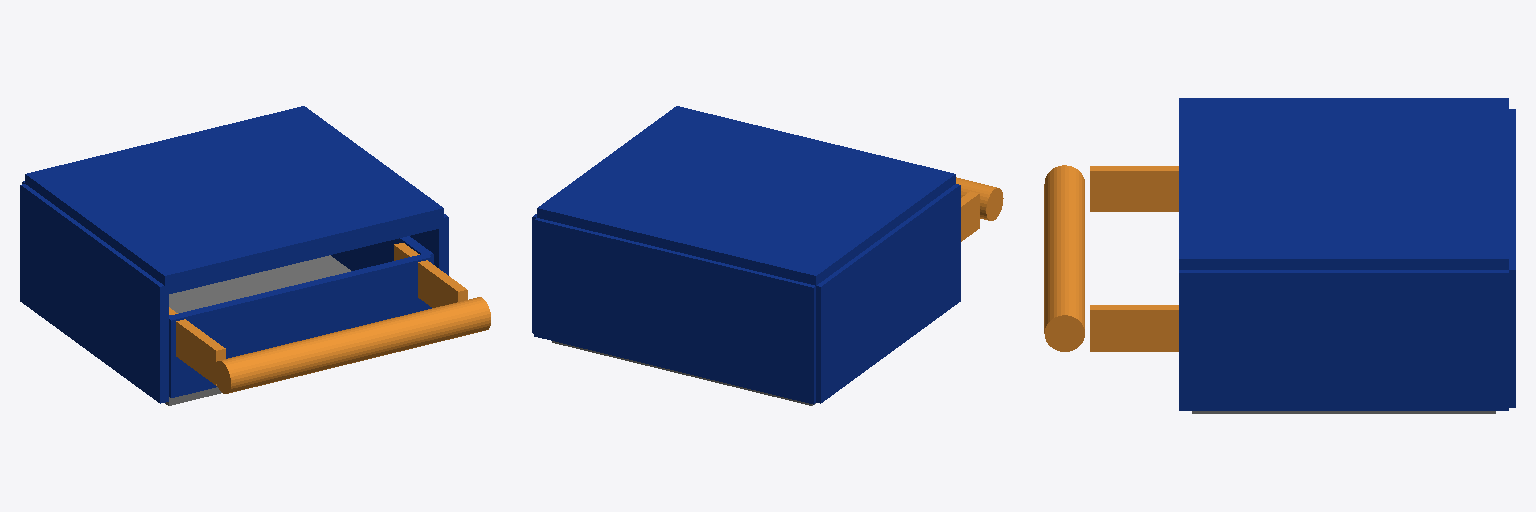
The robot description file, URDF, robot "bowl.urdf":
<?xml version="0.0" ?>
<robot name="bowl.urdf">
  <material name="mainColor">
    <color rgba=".1 .25 .6 1."/>
  </material>
<!--   <material name="mainColor">
    <color rgba=".55 .27 .1 1."/>
  </material> -->
<!--   <material name="mainColor">
    <color rgba="1. 1. 1. 1."/>
  </material> -->
  <material name="orange">
    <color rgba=".93 .6 .23 1"/>
  </material>
  <material name="grey">
    <color rgba=".5 .5 .5 1."/>
  </material>

  <link name="world"/>

  <link name="base">
    <contact>
      <rolling_friction value="10.0"/>
      <lateral_friction value="10.0"/>
      <spinning_friction value="10.0"/>
    </contact>
    <inertial>
      <origin rpy="0 0 0" xyz="0.0 0.0 0.0"/>
       <mass value="0.1"/>
       <inertia ixx="1" ixy="0" ixz="0" iyy="1" iyz="0" izz="1"/>
    </inertial>
    <!-- bottom -->
    <visual>
      <origin rpy="0 0 0" xyz="0 0 -0.2"/>
      <geometry>
        <box size="1.4 1.2 .1"/>
      </geometry>
      <material name="grey"/>
    </visual>
    <visual>
      <!-- right -->
      <origin rpy="0 0 0" xyz="0 -.6 0"/>
      <geometry>
        <box size="1.4 .05 0.4"/>
      </geometry>
      <material name="mainColor"/>
    </visual>
    <visual>
      <!-- left -->
      <origin rpy="0 0 0" xyz="0 .6 0"/>
      <geometry>
        <box size="1.4 .05 0.4"/>
      </geometry>
      <material name="mainColor"/>
    </visual>
    <visual>
      <!-- front -->
      <origin rpy="0 0 0" xyz=".7 0 0"/>
      <geometry>
        <box size=".05 1.2 0.4"/>
      </geometry>
      <material name="mainColor"/>
    </visual>
    <visual>
      <!-- back -->
      <origin rpy="0 0 0" xyz="-.7 0 0"/>
      <geometry>
        <box size=".05 1.2 0.4"/>
      </geometry>
      <material name="mainColor"/>
    </visual>

    <collision>
      <!--Bottom --> 
      <origin rpy="0 0 0" xyz="0 0 -.2"/>
      <geometry>
        <box size="1.4 1.2 .1"/>
      </geometry>
    </collision>
    <collision>
      <!-- right -->
      <origin rpy="0 0 0" xyz="0 -.6 0"/>
      <geometry>
        <box size="1.4 .05 0.4"/>
      </geometry>
    </collision>
    <collision>
      <!-- left -->
      <origin rpy="0 0 0" xyz="0 .6 0"/>
      <geometry>
        <box size="1.4 .05 0.4"/>
      </geometry>
    </collision>
    <collision>
      <!-- front -->
      <origin rpy="0 0 0" xyz=".7 0 0"/>
      <geometry>
        <box size=".05 1.2 0.4"/>
      </geometry>
    </collision>
    <collision>
      <!-- back -->
      <origin rpy="0 0 0" xyz="-.7 0 0"/>
      <geometry>
        <box size=".05 1.2 0.4"/>
      </geometry>
    </collision>
  </link>

  <link name="handle_r">
    <contact>
      <rolling_friction value="1000.0"/>
      <lateral_friction value="1000.0"/>
      <!-- lateral_friction was key to not making the gripper slide on the handle--> 
      <spinning_friction value="1000.0"/>
      <contact_cfm value="0.0"/>
      <contact_erp value="1.0"/>
    </contact>
    <inertial>
      <origin rpy="0 1.57 0" xyz="0 0 0"/>
      <mass value=".1"/>
      <inertia ixx="1" ixy="0" ixz="0" iyy="1" iyz="0" izz="1"/>
    </inertial>
    <visual>
      <origin rpy="0 1.57 0" xyz="0 0 0"/>
      <geometry>
        <cylinder radius="0.08" length="1.4"/>
      </geometry>
      <material name="orange"/>
    </visual>
    <collision>
      <origin rpy="0 1.57 0" xyz="0 0 0"/>
      <geometry>
        <cylinder radius="0.08" length="1.4"/>
      </geometry>
    </collision>
  </link>

  <link name="handle_plate_far">
    <contact>
      <rolling_friction value="1000.0"/>
      <lateral_friction value="1000.0"/>
      <spinning_friction value="1000.0"/>
      <contact_cfm value="0.0"/>
      <contact_erp value="1.0"/>
    </contact>
    <inertial>
      <origin rpy="0 1.57 0" xyz="0 0 0"/>
      <mass value=".1"/>
      <inertia ixx="1" ixy="0" ixz="0" iyy="1" iyz="0" izz="1"/>
    </inertial>
    <visual>
      <origin rpy="0 0 0" xyz="0 0 0"/>
      <geometry>
        <box size=".05 .6 .18"/>
      </geometry>
      <material name="orange"/>
    </visual>
    <collision>
      <origin rpy="0 0 0" xyz="0 0 0"/>
      <geometry>
        <box size=".05 .6 .18"/>
      </geometry>
    </collision>
  </link>

  <link name="handle_plate_near">
    <contact>
      <rolling_friction value="1000.0"/>
      <lateral_friction value="1000.0"/>
      <spinning_friction value="1000.0"/>
      <contact_cfm value="0.0"/>
      <contact_erp value="1.0"/>
    </contact>
    <inertial>
      <origin rpy="0 1.57 0" xyz="0 0 0"/>
      <mass value=".1"/>
      <inertia ixx="1" ixy="0" ixz="0" iyy="1" iyz="0" izz="1"/>
    </inertial>
    <visual>
      <origin rpy="0 0 0" xyz="0 0 0"/>
      <geometry>
        <box size=".05 .6 .18"/>
      </geometry>
      <material name="orange"/>
    </visual>
    <collision>
      <origin rpy="0 0 0" xyz="0 0 0"/>
      <geometry>
        <box size=".05 .6 .18"/>
      </geometry>
    </collision>
  </link>

  <link name="frame">
    <contact>
      <lateral_friction value="0.5"/>
      <rolling_friction value="0.0"/>
      <contact_cfm value="0.0"/>
      <contact_erp value="1.0"/>
    </contact>
    <inertial>
      <origin rpy="0 0 0" xyz="0.0 0.0 0.0"/>
       <mass value=".1"/>
       <inertia ixx="1" ixy="0" ixz="0" iyy="1" iyz="0" izz="1"/>
    </inertial>
    <visual>
      <!--Top-->
      <origin rpy="0 0 0" xyz="0 0 .3"/>
      <geometry>
        <box size="1.5 1.3 .1"/>
      </geometry>
      <material name="mainColor"/>
    </visual>
    <visual>
      <!--Right-->
      <origin rpy="0 0 0" xyz="0 .65 0"/>
      <geometry>
        <box size="1.5 .05 .6"/>
      </geometry>
      <material name="mainColor"/>
    </visual>
    <visual>
      <!--Front-->
      <origin rpy="0 0 0" xyz=".75 0 0"/>
      <geometry>
        <box size=".05 1.3 .6"/>
      </geometry>
      <material name="mainColor"/>
    </visual>
    <visual>
      <!--Back-->
      <origin rpy="0 0 0" xyz="-.75 0 0"/>
      <geometry>
        <box size=".05 1.3 .6"/>
      </geometry>
      <material name="mainColor"/>
    </visual>

    <collision>
      <!--Top-->
      <origin rpy="0 0 0" xyz="0 0 .3"/>
      <geometry>
        <box size="1.5 1.3 .1"/>
      </geometry>
    </collision>
    <collision>
      <!--Right-->
      <origin rpy="0 0 0" xyz="0 .65 0"/>
      <geometry>
        <box size="1.5 .05 .6"/>
      </geometry>
    </collision>
    <collision>
      <!--Front-->
      <origin rpy="0 0 0" xyz=".75 0 0"/>
      <geometry>
        <box size=".05 1.3 .6"/>
      </geometry>
    </collision>
    <collision>
      <!--Back-->
      <origin rpy="0 0 0" xyz="-.75 0 0"/>
      <geometry>
        <box size=".05 1.3 .6"/>
      </geometry>
    </collision>
  </link>

  <joint name="frame_joint" type="fixed">
    <parent link="world"/>
    <child link="frame"/>
  </joint>

  <joint name="base_frame_joint" type="prismatic">
    <origin rpy="0 0 0" xyz="0 0 -.1"/>
    <parent link="frame"/>
    <child link="base"/>
    <axis rpy="0 0 0" xyz="0 1 0"/>
    <limit effort="100" lower="-1.25" upper="0" velocity="100"/>
    <dynamics damping="0.0" friction=".01"/>
  </joint>

  <joint name="handle_plate_far_joint" type="fixed">
    <origin rpy="0 0 0" xyz="-0.65 -0.7 0.1"/>
    <parent link="base"/>
    <child link="handle_plate_far"/>
  </joint>

  <joint name="handle_plate_near_joint" type="fixed">
    <origin rpy="0 0 0" xyz="0.65 -0.7 0.1"/>
    <parent link="base"/>
    <child link="handle_plate_near"/>
  </joint>

  <joint name="handle_r_joint" type="fixed">
    <origin rpy="0 0 0" xyz="0 -1.1 0.1"/>
    <parent link="base"/>
    <child link="handle_r"/>
  </joint>

</robot>

--- Render facts (derived) ---
The picture shows the robot from 3 angles, left to right: view 1: azimuth 30°, elevation 25°; view 2: azimuth 150°, elevation 25°; view 3: azimuth 270°, elevation 25°; orthographic projection.
Model bowl.urdf with 6 links and 5 joints (1 prismatic, 4 fixed), rooted at world, posed every joint at zero.
Visible links, largest first — view 1: frame, base, handle_r, handle_plate_far, handle_plate_near; view 2: frame, handle_r, handle_plate_far; view 3: frame, handle_r, handle_plate_near, handle_plate_far, base.
Link boxes in pixels (x1=…): frame: x1=20, y1=106, x2=448, y2=403; base: x1=165, y1=236, x2=433, y2=405; handle_r: x1=214, y1=297, x2=490, y2=393; handle_plate_far: x1=169, y1=307, x2=225, y2=385; handle_plate_near: x1=394, y1=243, x2=467, y2=307; frame: x1=532, y1=106, x2=960, y2=404; handle_r: x1=956, y1=177, x2=1003, y2=220; handle_plate_far: x1=961, y1=191, x2=979, y2=241; frame: x1=1179, y1=98, x2=1515, y2=410; handle_r: x1=1044, y1=165, x2=1084, y2=351; handle_plate_near: x1=1090, y1=305, x2=1178, y2=351; handle_plate_far: x1=1090, y1=166, x2=1178, y2=211; base: x1=1192, y1=411, x2=1495, y2=413.
Bounding box of the posed robot: 1.55 × 1.85 × 0.7 m (x, y, z).
Geometry: primitives only (box / cylinder / sphere), no mesh files.